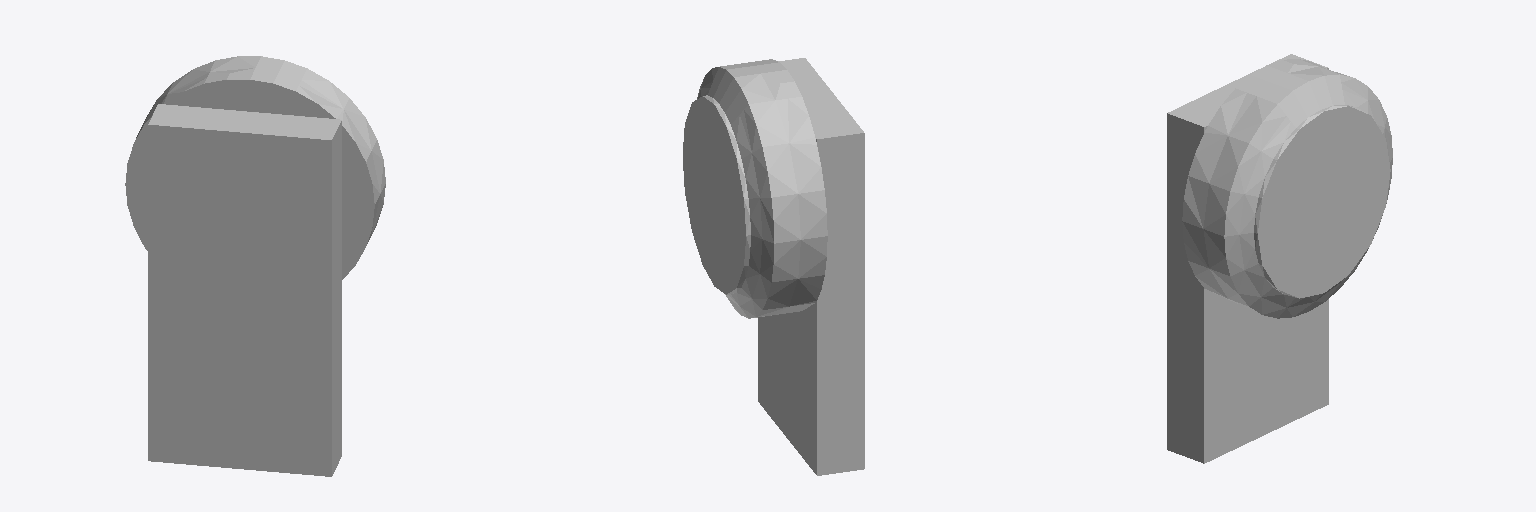
File: mirrorTwo.obj
The picture shows the model from 3 angles: view 1: azimuth 30°, elevation 25°; view 2: azimuth 150°, elevation 25°; view 3: azimuth 270°, elevation 25°; orthographic projection.
Visible parts, largest first — view 1: object_1; view 2: object_1; view 3: object_1.
Boxes of the visible parts, x1,y1,x2,y2 form: object_1: [125, 56, 385, 476]; object_1: [683, 58, 864, 475]; object_1: [1167, 54, 1392, 463].
Bounding box in the file's own units: 0.8764 × 1.51 × 0.8397.